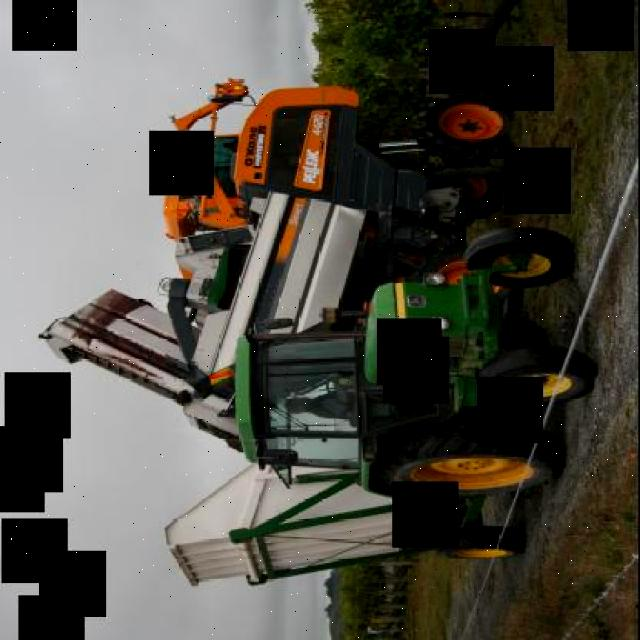Tratores - v5 YOLO V8L 2024-11-13: (243, 213, 609, 502)
